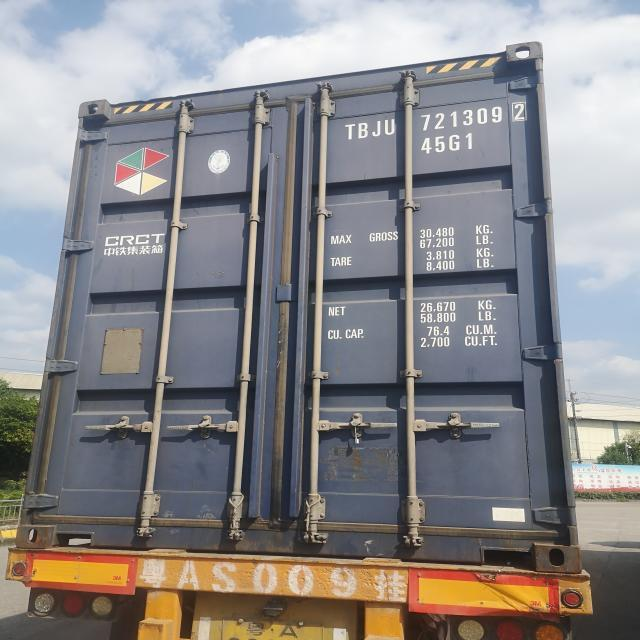ISO: (421, 134, 473, 153)
container_number: (345, 106, 519, 132)
